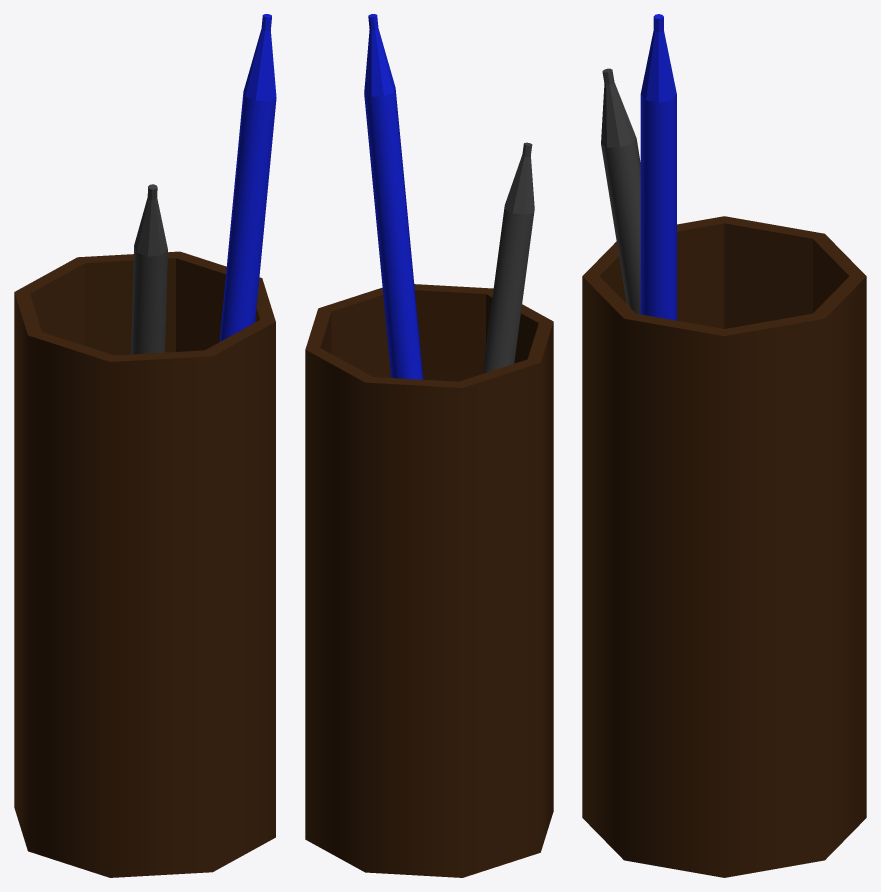
Rendered from SujetaLapices.FBX.
3 renders of one model, left to right at view 1: azimuth 30°, elevation 25°; view 2: azimuth 150°, elevation 25°; view 3: azimuth 270°, elevation 25°, orthographic. The views are drawn at different scales.
Parts seen in each view (by area): view 1: SujetaLapices; view 2: SujetaLapices; view 3: SujetaLapices.
Part boxes in pixels (x1=…): SujetaLapices: x1=14, y1=14, x2=276, y2=877; SujetaLapices: x1=305, y1=14, x2=553, y2=877; SujetaLapices: x1=582, y1=14, x2=866, y2=877.
Bounding box in the file's own units: 0.2993 × 0.9862 × 0.2993.
